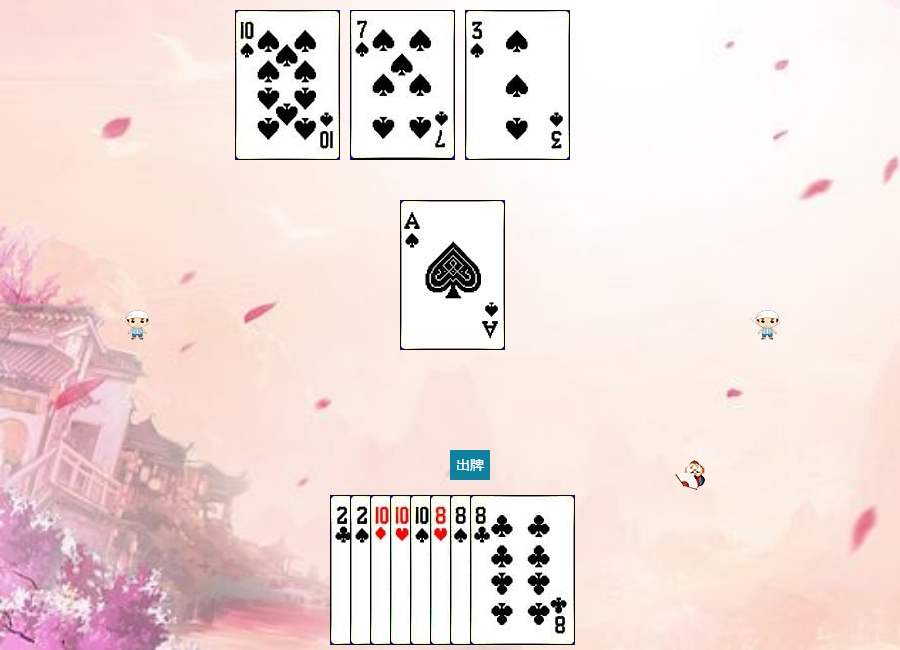10~1: (370, 495, 475, 645)
10~3: (390, 495, 495, 645)
10~4: (235, 10, 340, 160), (410, 495, 515, 645)
14~4: (400, 200, 505, 350)
15~2: (330, 495, 435, 645)
15~4: (350, 495, 455, 645)
3~4: (465, 10, 570, 160)
7~4: (350, 10, 455, 160)
8~2: (470, 495, 575, 645)
8~3: (430, 495, 535, 645)
8~4: (450, 495, 555, 645)
